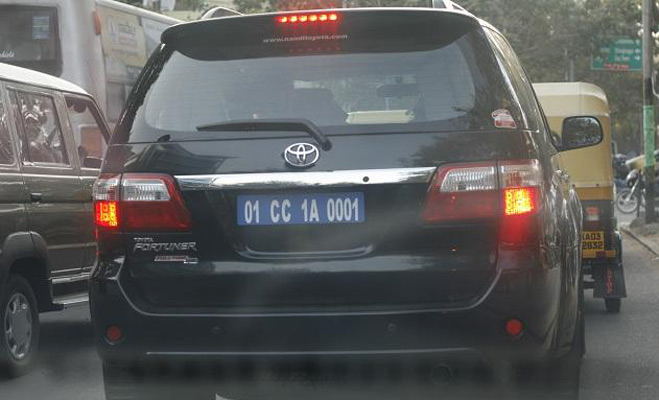number_plate: (231, 191, 369, 225)
